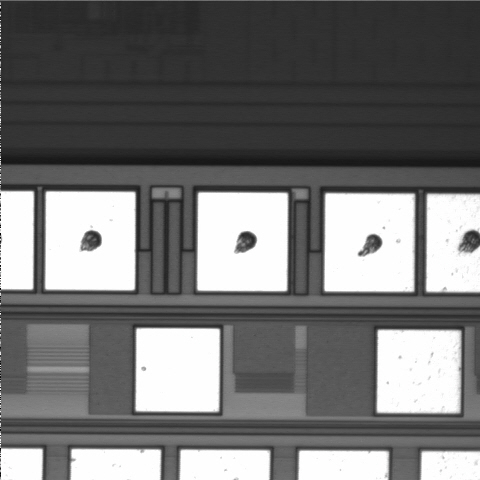pad: (197, 192, 288, 291), (324, 193, 415, 292), (45, 191, 135, 290), (136, 328, 220, 412), (377, 330, 461, 413)
